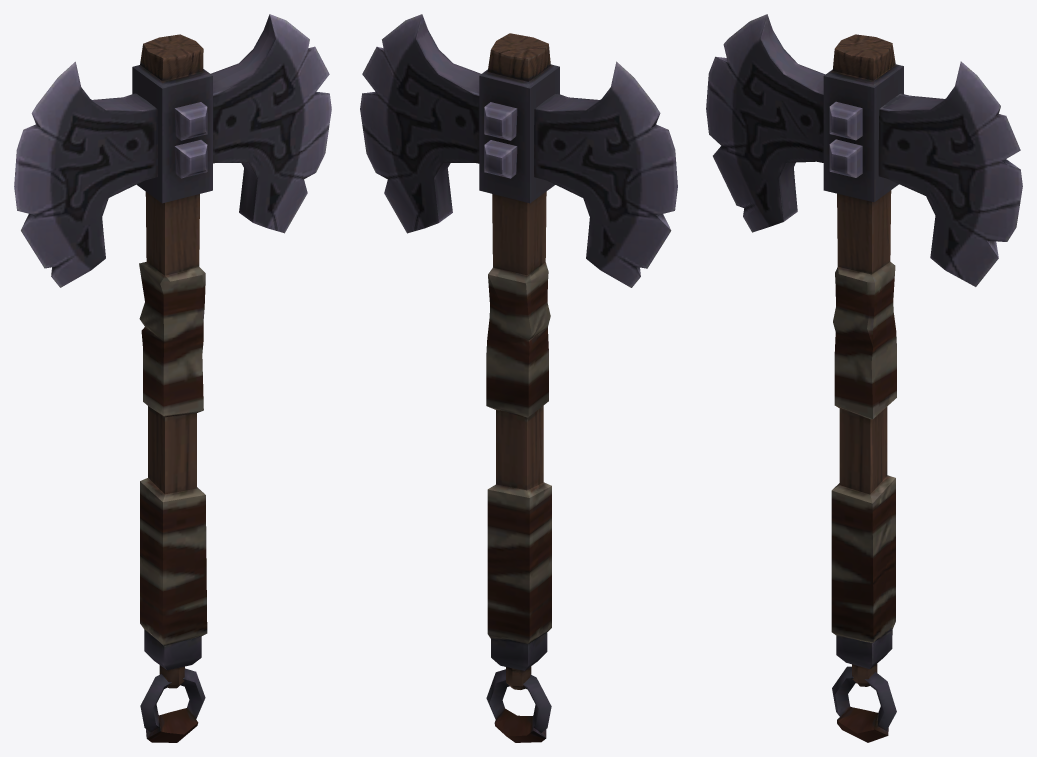
Rendered from Axe_weapon.obj.
The picture shows the model from 3 angles, left to right: view 1: azimuth 30°, elevation 25°; view 2: azimuth 150°, elevation 25°; view 3: azimuth 330°, elevation 25°; orthographic projection.
Parts seen in each view (by area): view 1: g0; view 2: g0; view 3: g0.
Part boxes in pixels (box(x1,y1,x2,y2)): g0: box(14, 14, 331, 742); g0: box(360, 14, 677, 742); g0: box(706, 14, 1022, 742).
Size of the model in its own units: 1.01 by 2.15 by 0.2734.
1 material, 1 textured.
